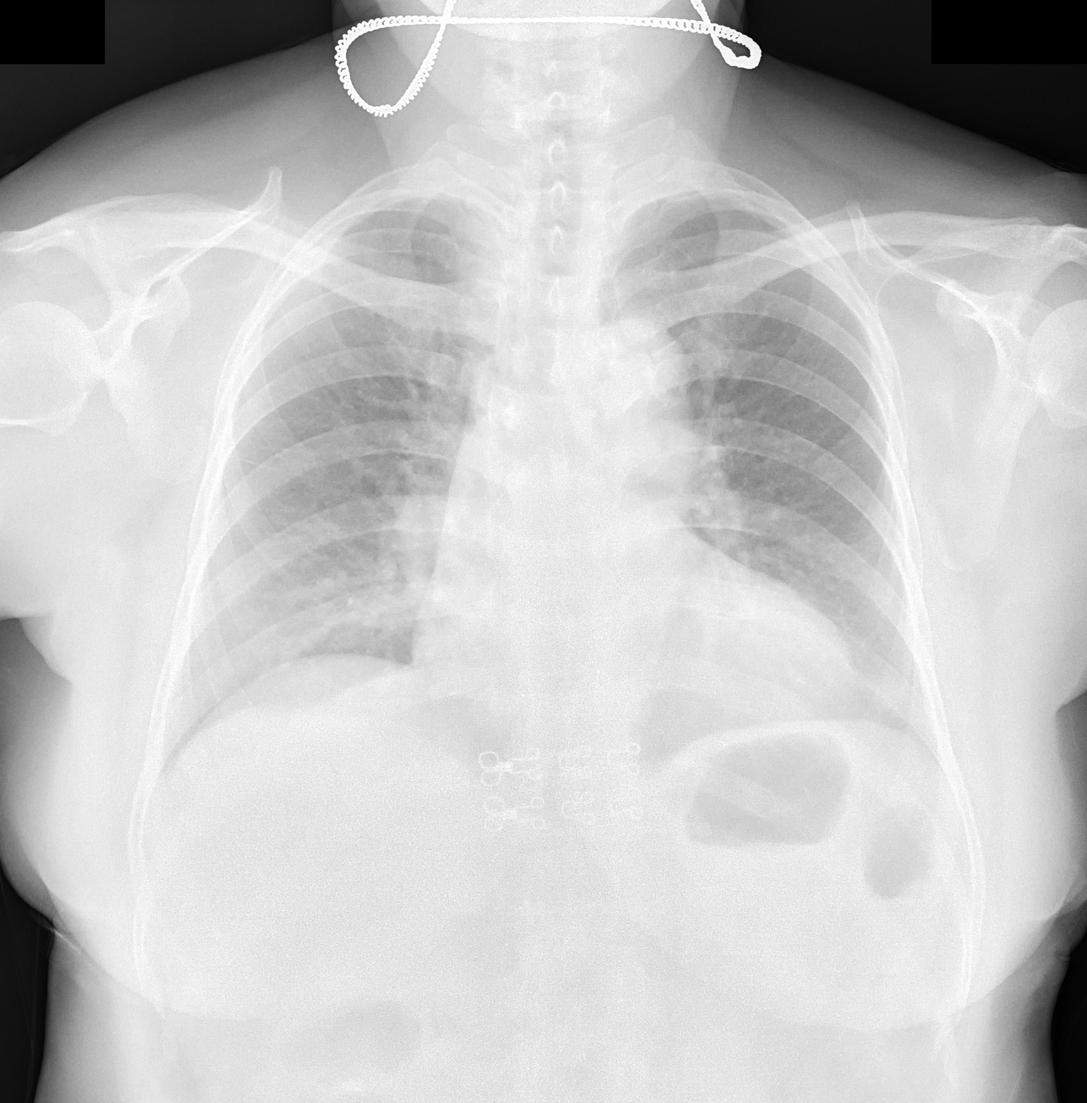Aortic enlargement: (564, 316, 690, 434)
Cardiomegaly: (409, 614, 853, 717)
